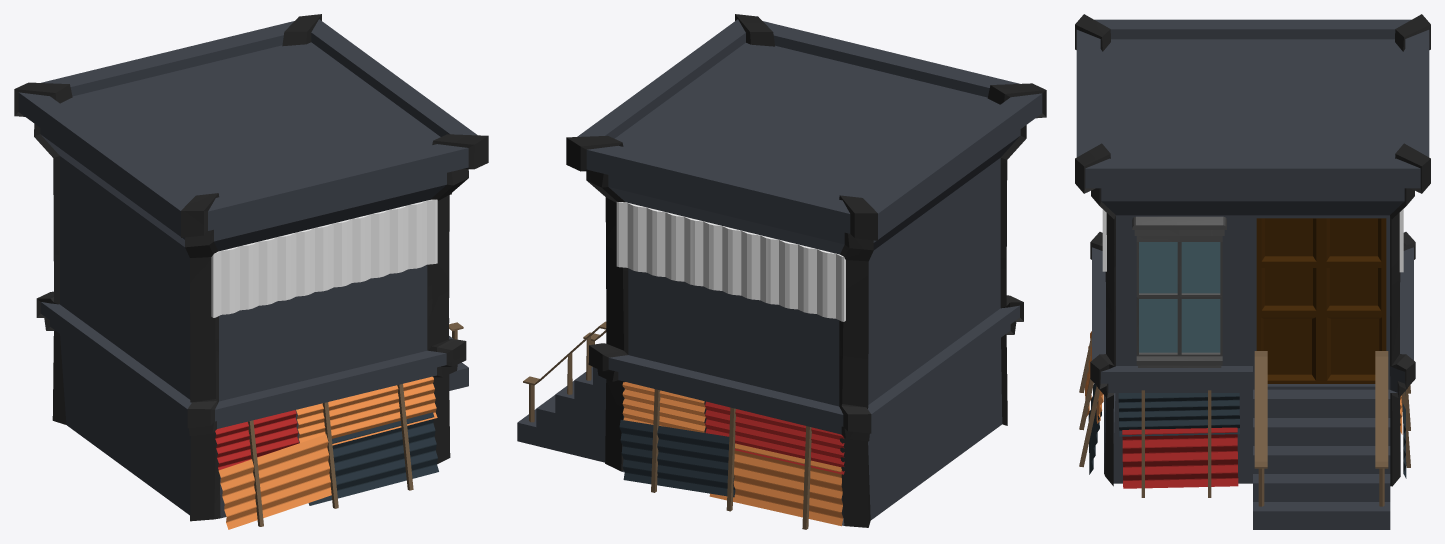
File: SlumBuildings.fbx_AltColor1StorySlum.fbx
3 renders of one model, left to right at view 1: azimuth 30°, elevation 25°; view 2: azimuth 150°, elevation 25°; view 3: azimuth 270°, elevation 25°, orthographic.
Parts seen in each view (by area): view 1: Cube.001; view 2: Cube.001; view 3: Cube.001.
Boxes of the visible parts, x1,y1,x2,y2 form: Cube.001: (14, 14, 488, 529); Cube.001: (517, 14, 1046, 529); Cube.001: (1075, 14, 1430, 529).
Bounding box in the file's own units: 1624 × 1987 × 1713.
